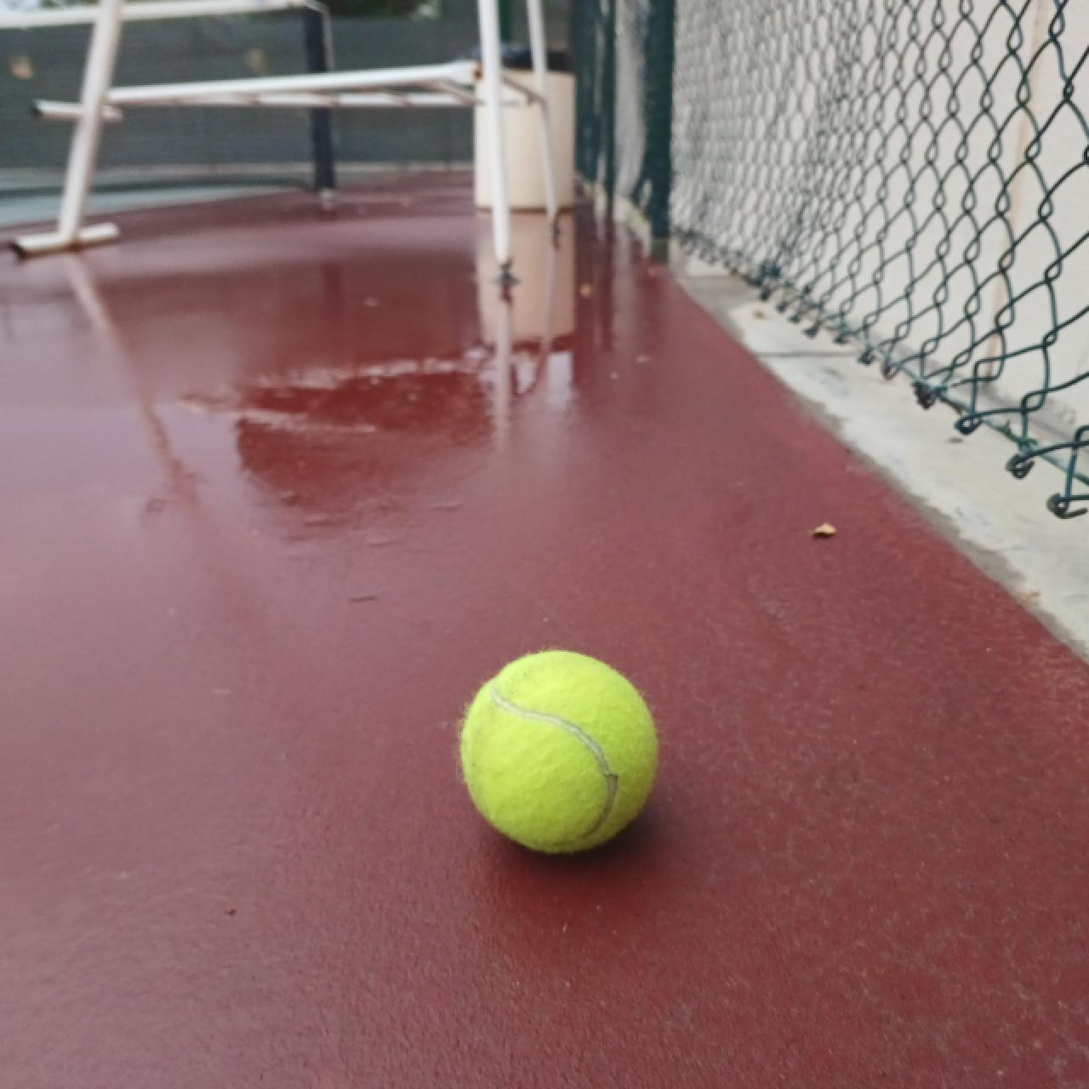tennis-ball: (460, 646, 659, 855)
